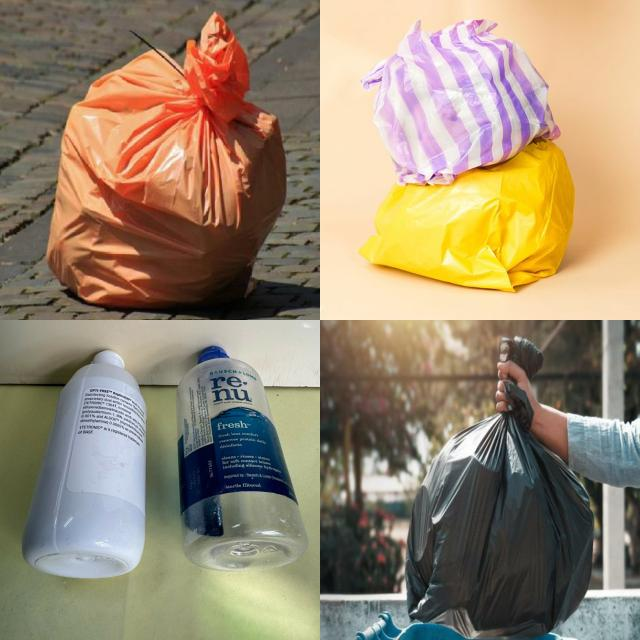HDPE Plastic: (176, 346, 309, 571), (22, 351, 146, 578)
Single-layer Plastic: (48, 14, 286, 308), (408, 381, 592, 638), (361, 20, 560, 185), (359, 140, 575, 291)
